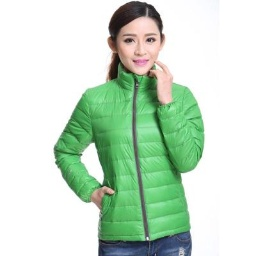face: (104, 1, 170, 82)
